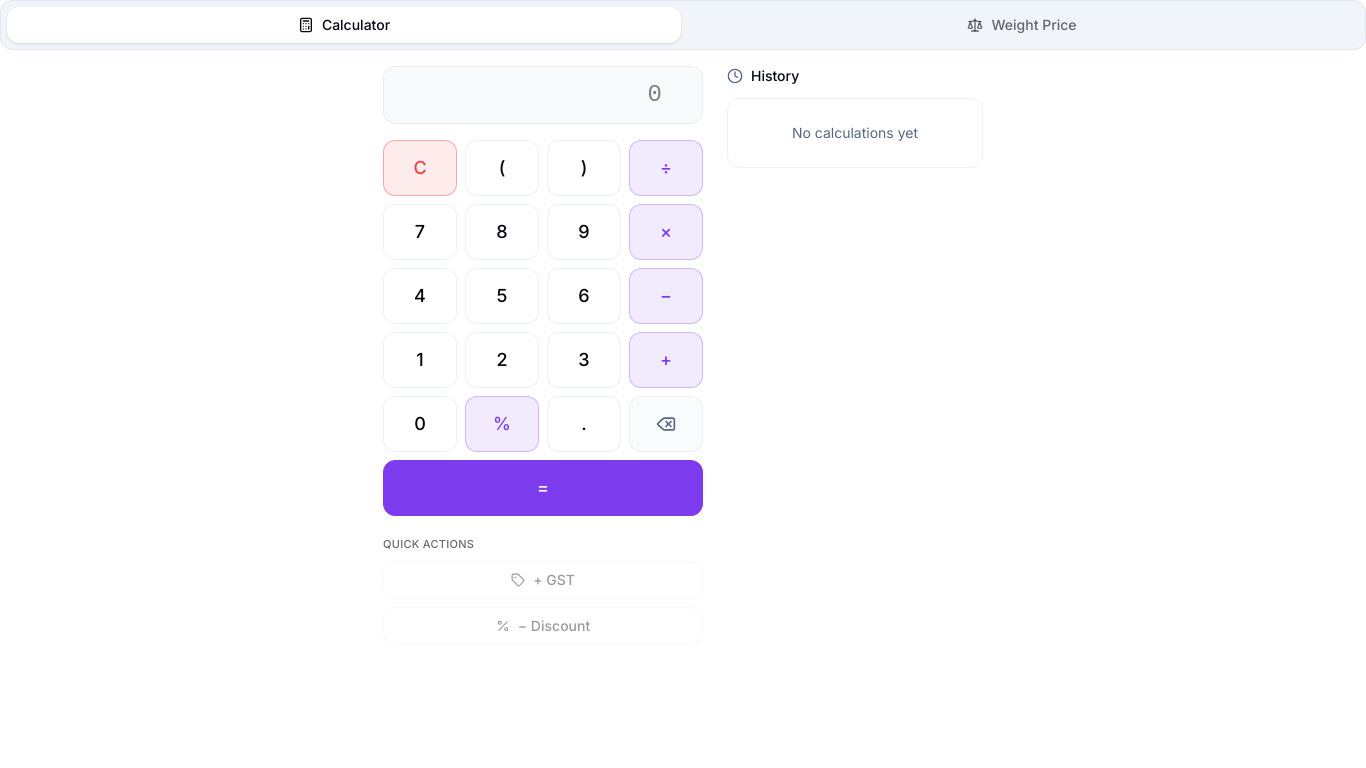
Test case: BasicCalculator › C button clears the expression
The image size is (1366, 768).
Click the button "9": (584, 232) [547,204,621,260]
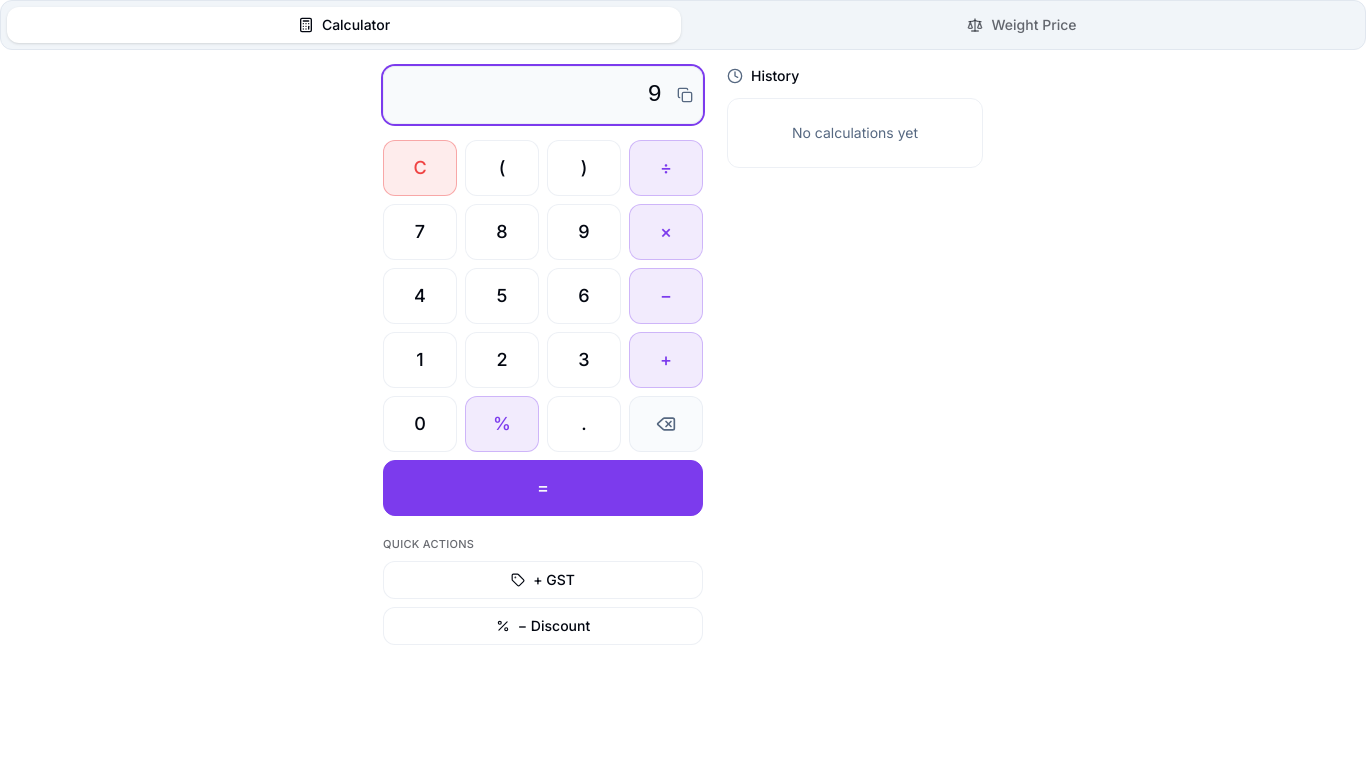
Click the button named "Clear": (420, 168) [383,140,457,196]
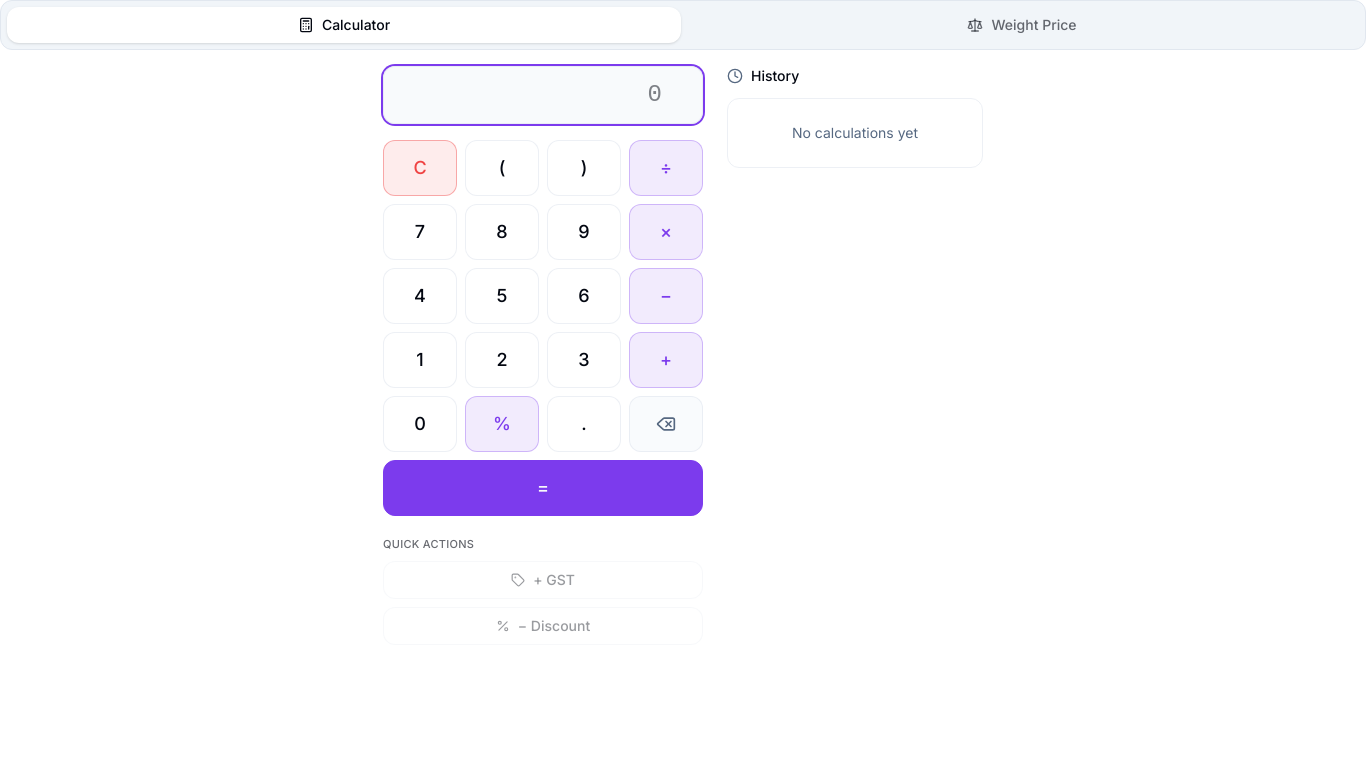
Expected: the field named "Expression" is empty, [383,66,703,124]
